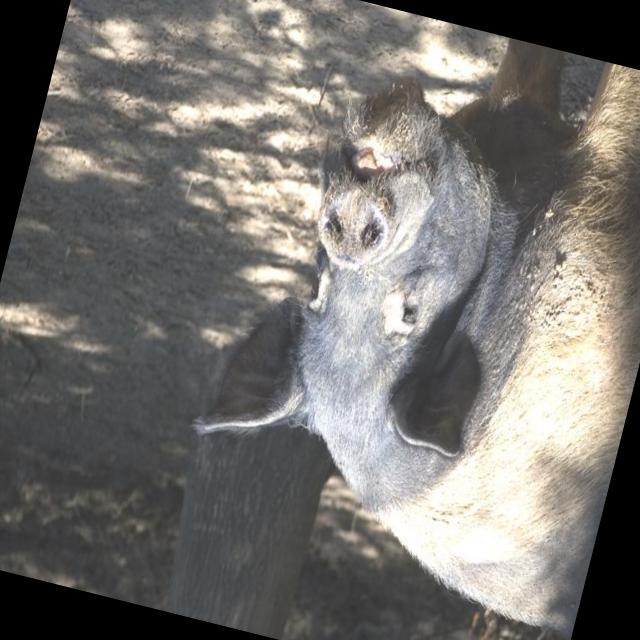pig: (197, 41, 640, 635)
